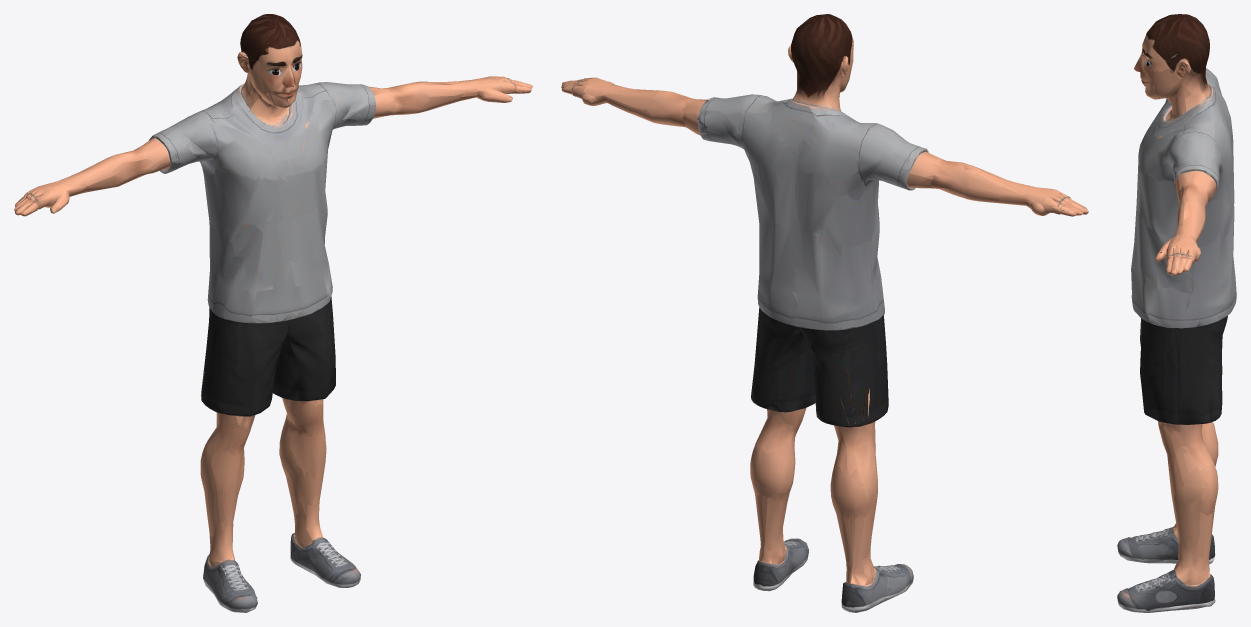
3 views of the same model, side by side, from view 1: azimuth 30°, elevation 25°; view 2: azimuth 150°, elevation 25°; view 3: azimuth 270°, elevation 25° (orthographic).
Size of the model in its own units: 1.83 by 1.9 by 0.363.
Materials: 1 (1 with a texture image).
